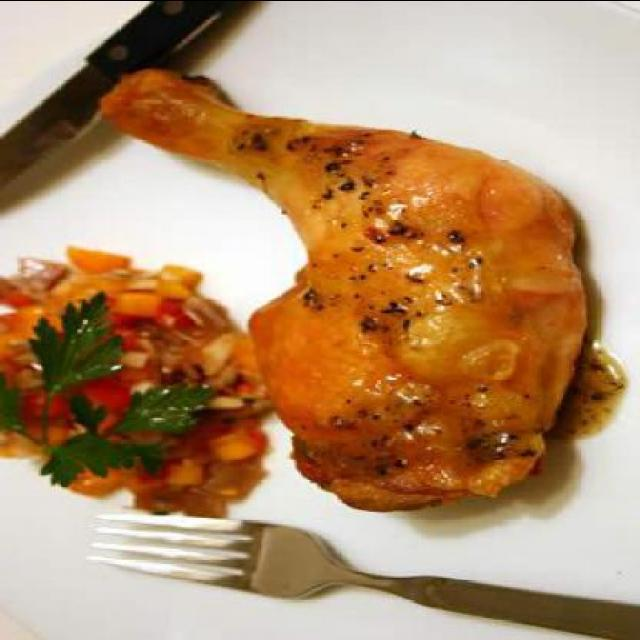Chicken roast: (147, 68, 542, 534)
